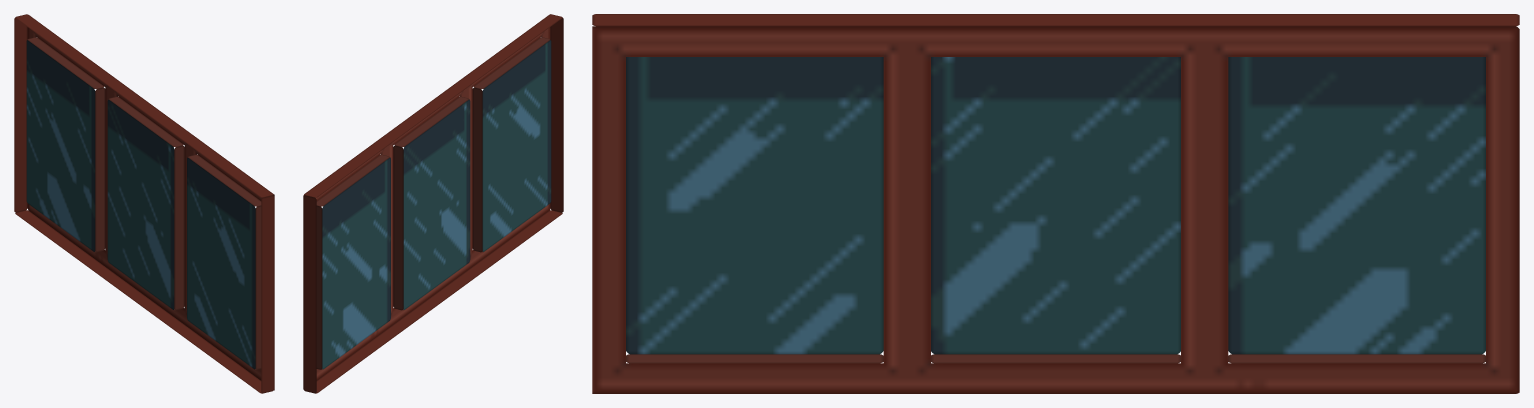
The model's file is WindowWood3.fbx.
3 renders of one model, left to right at view 1: azimuth 30°, elevation 25°; view 2: azimuth 150°, elevation 25°; view 3: azimuth 270°, elevation 25°, orthographic. The views are drawn at different scales.
Parts seen in each view (by area): view 1: plane; view 2: plane; view 3: plane.
Boxes of the visible parts, <box> form: plane: <box>14,14,274,393</box>; plane: <box>303,14,563,393</box>; plane: <box>592,14,1519,393</box>.
Bounding box in the file's own units: 6.25 × 87.5 × 200.
Materials: 1 (1 with a texture image).
